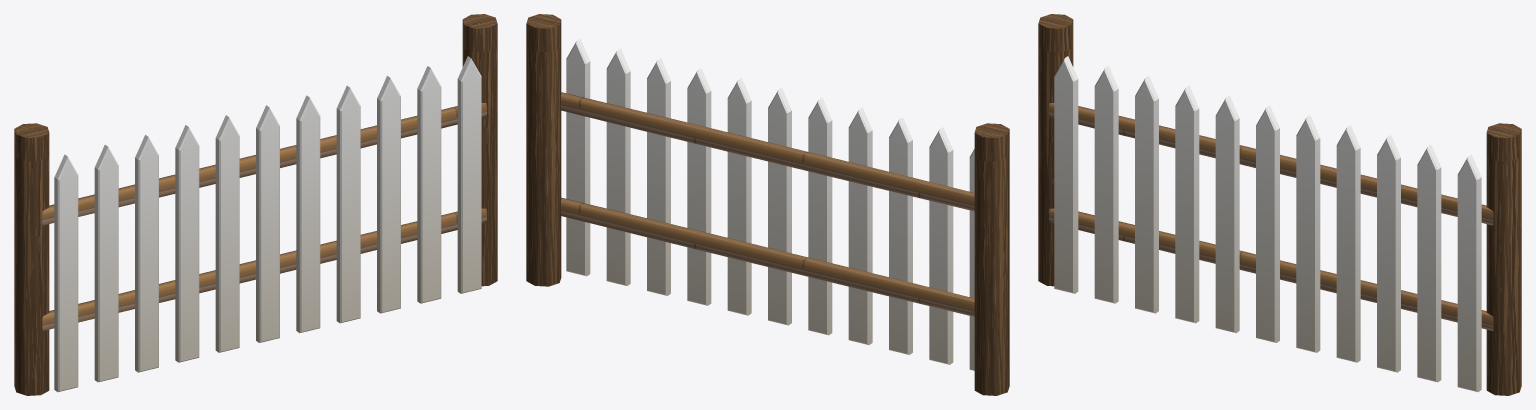
The model's file is fence_wood_picket.glb.
The picture shows the model from 3 angles, left to right: view 1: azimuth 30°, elevation 25°; view 2: azimuth 150°, elevation 25°; view 3: azimuth 330°, elevation 25°; orthographic projection.
Parts seen in each view (by area): view 1: fence_picket, fence_picket_log; view 2: fence_picket, fence_picket_log; view 3: fence_picket, fence_picket_log.
Boxes of the visible parts, <box> form: fence_picket: <box>42,56,486,392</box>; fence_picket_log: <box>14,14,497,395</box>; fence_picket: <box>561,38,974,370</box>; fence_picket_log: <box>526,14,1009,395</box>; fence_picket: <box>1049,56,1493,392</box>; fence_picket_log: <box>1038,14,1521,395</box>.
Size of the model in its own units: 2.14 by 1.1 by 0.181.
Materials: 3 (2 with a texture image).
